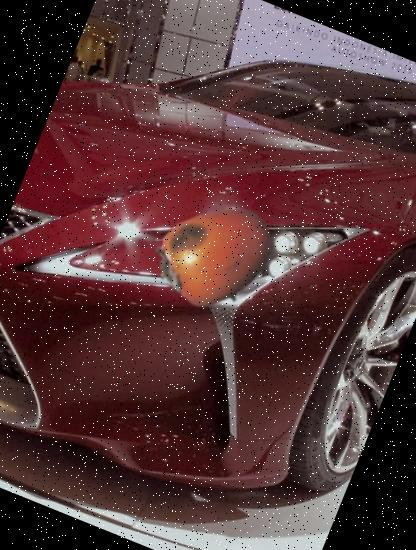Kaki: (136, 179, 295, 338)
